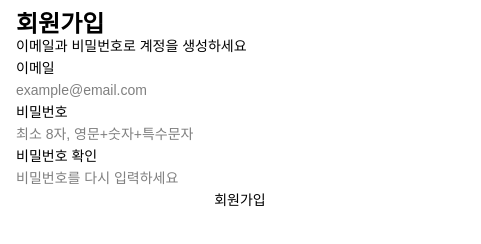
Test: SignupForm › 비밀번호가 너무 약한 에러를 처리한다
This screenshot has width=481, height=244.
Note: 유효한 데이터 입력
Type "test@example.com" into the field labelled "이메일" at (240,90), box [16, 80, 464, 100]
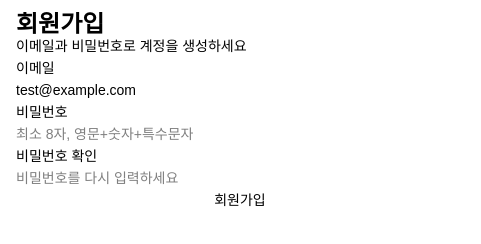
Type "Password123!" into the password field labelled "비밀번호" at (240,134), box [16, 124, 464, 144]
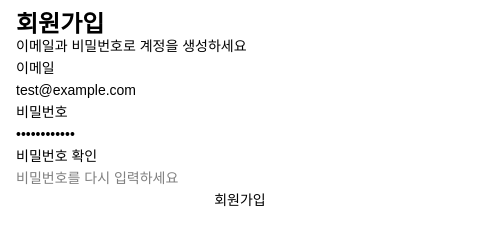
Type "Password123!" into the password field labelled "비밀번호 확인" at (240,178), box [16, 168, 464, 188]
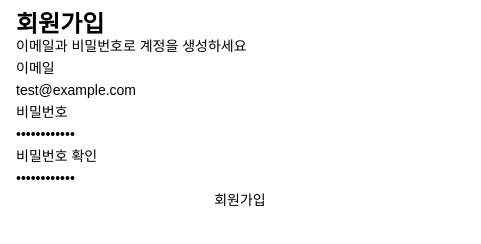
Click the button "회원가입" at (240,200), box [16, 190, 464, 210]
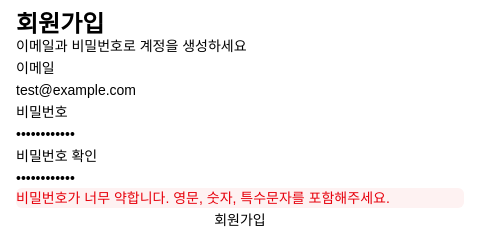
expect the text "비밀번호가 너무 약합니다. 영문, 숫자, 특수문자를 포함해주세요." is shown: met, box [16, 190, 390, 206]
